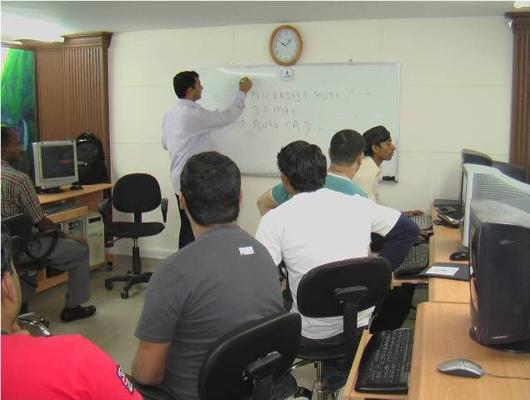person: (162, 71, 255, 255)
